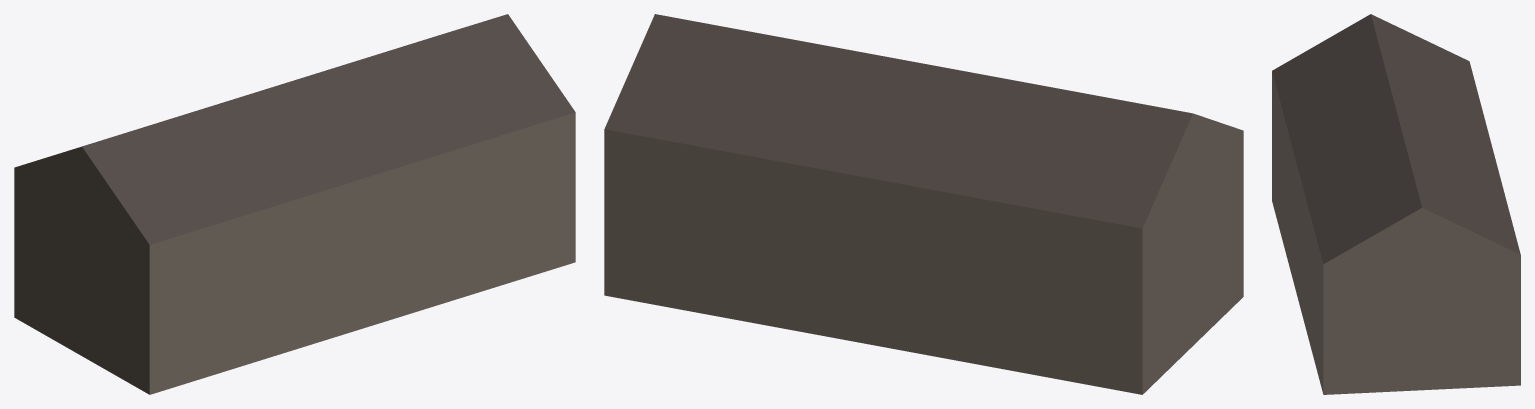
3 renders of one model, left to right at view 1: azimuth 30°, elevation 25°; view 2: azimuth 150°, elevation 25°; view 3: azimuth 270°, elevation 25°, orthographic. The views are drawn at different scales.
Visible parts, largest first — view 1: HP-w859467773; view 2: HP-w859467773; view 3: HP-w859467773.
Part boxes in pixels (left/top/right/bottom): HP-w859467773: left=14, top=14, right=575, bottom=394; HP-w859467773: left=604, top=14, right=1243, bottom=394; HP-w859467773: left=1272, top=14, right=1520, bottom=394.
Size of the model in its own units: 30.01 by 12.58 by 15.53.
